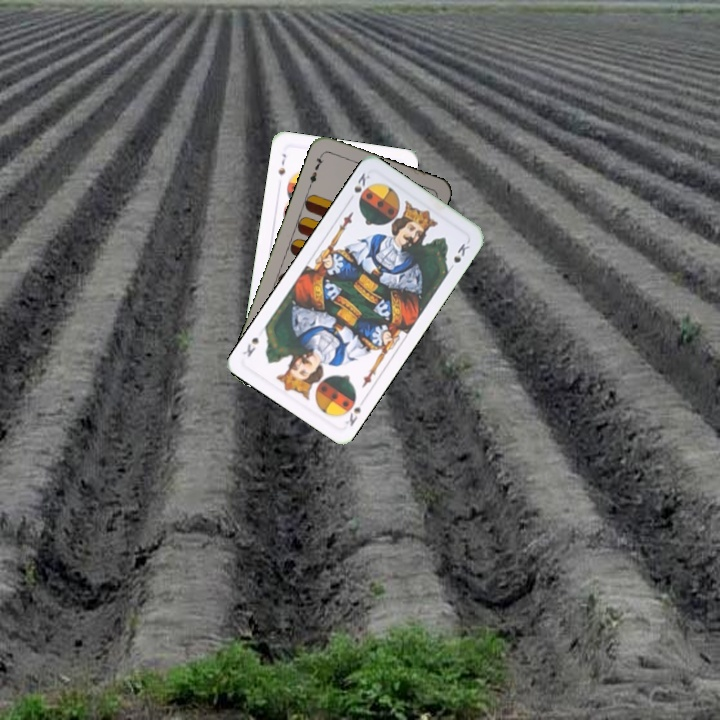E7: (305, 150, 326, 189)
S7: (274, 150, 289, 178)
SK: (341, 394, 368, 429), (350, 169, 373, 205)
